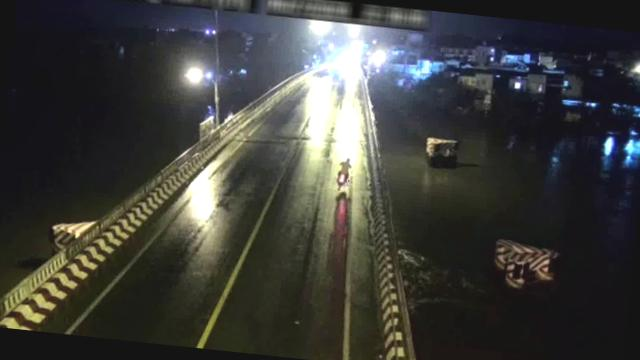Bike: (331, 156, 354, 194)
